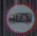Heavy Vehicles: (6, 2, 34, 35)
